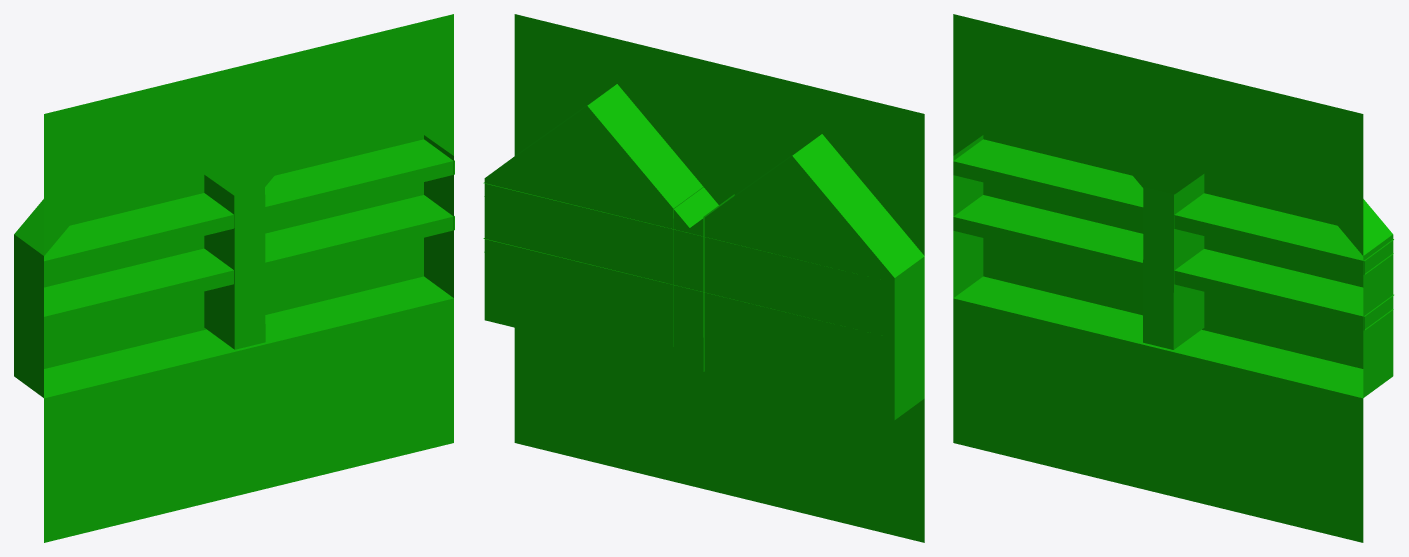
File: DG_WallGothic_Shelf_A_collider.FBX
The picture shows the model from 3 angles, left to right: view 1: azimuth 30°, elevation 25°; view 2: azimuth 150°, elevation 25°; view 3: azimuth 330°, elevation 25°; orthographic projection.
Parts seen in each view (by area): view 1: DG_WallGothic_Shelf_A_collider; view 2: DG_WallGothic_Shelf_A_collider; view 3: DG_WallGothic_Shelf_A_collider.
Part boxes in pixels (bbox=[...]): DG_WallGothic_Shelf_A_collider: bbox=[14, 14, 454, 542]; DG_WallGothic_Shelf_A_collider: bbox=[483, 14, 924, 542]; DG_WallGothic_Shelf_A_collider: bbox=[953, 14, 1393, 542].
Size of the model in its own units: 301 by 300 by 40.39.
